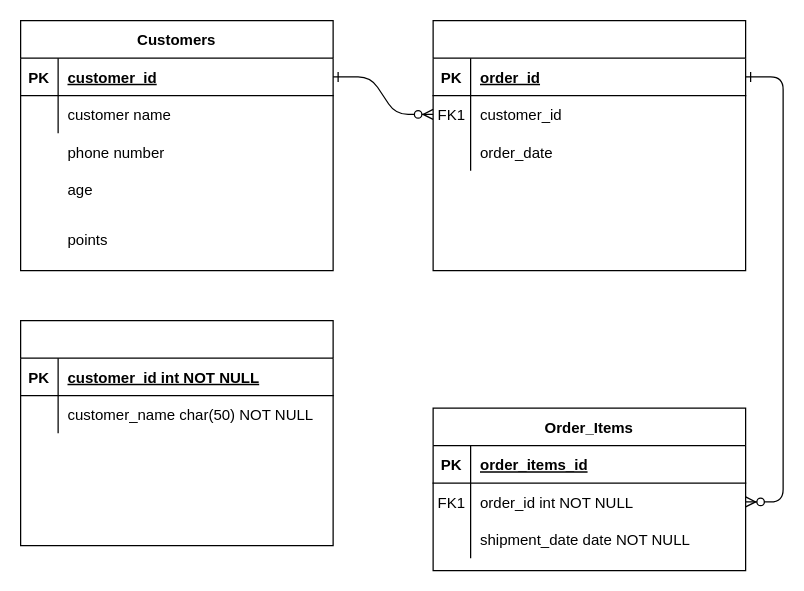
Some shapes in this 804 by 591 pixel diagram are drawn without their labels. Here are the shapes that lost their labels. From the top down, the box of each, then its label:
(432, 19, 746, 271): Orders
(19, 319, 333, 546): Items
